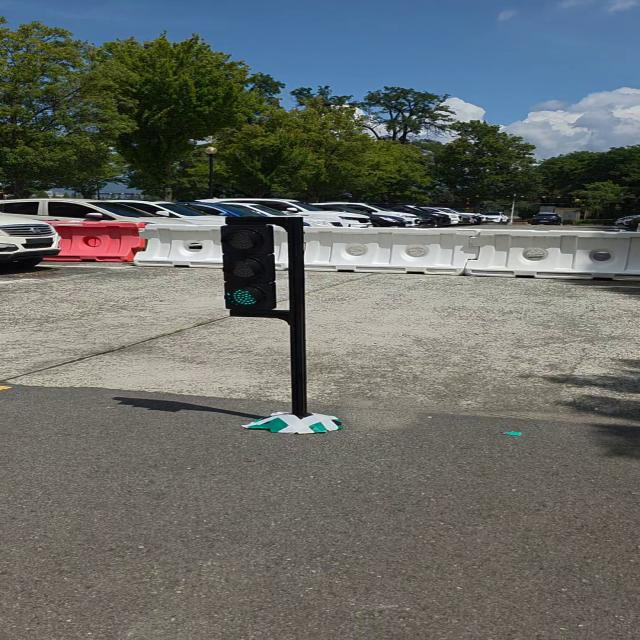green: (219, 218, 277, 316)
